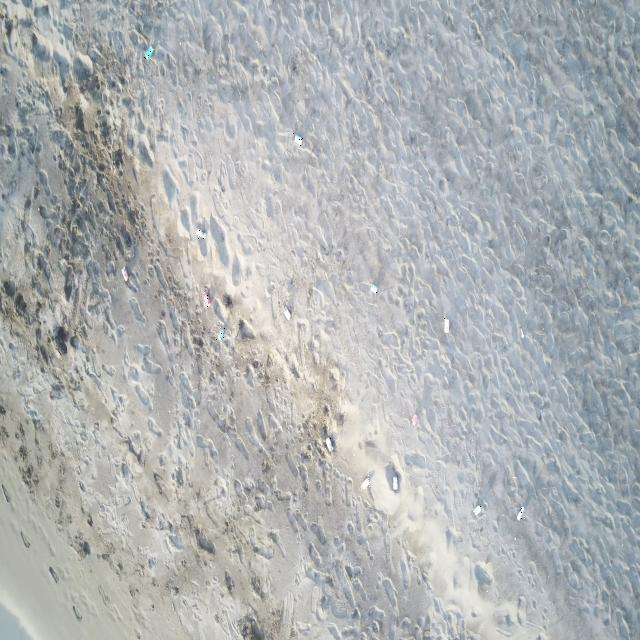tin-and-aluminum-cans: (144, 46, 154, 61), (195, 228, 207, 240), (216, 326, 225, 342), (121, 265, 129, 282), (361, 475, 370, 490), (293, 133, 303, 146), (518, 506, 526, 522), (283, 306, 291, 322), (203, 292, 211, 308), (325, 438, 334, 452), (392, 474, 399, 491), (368, 282, 378, 293), (473, 502, 482, 514), (444, 317, 450, 335), (412, 414, 418, 426)
